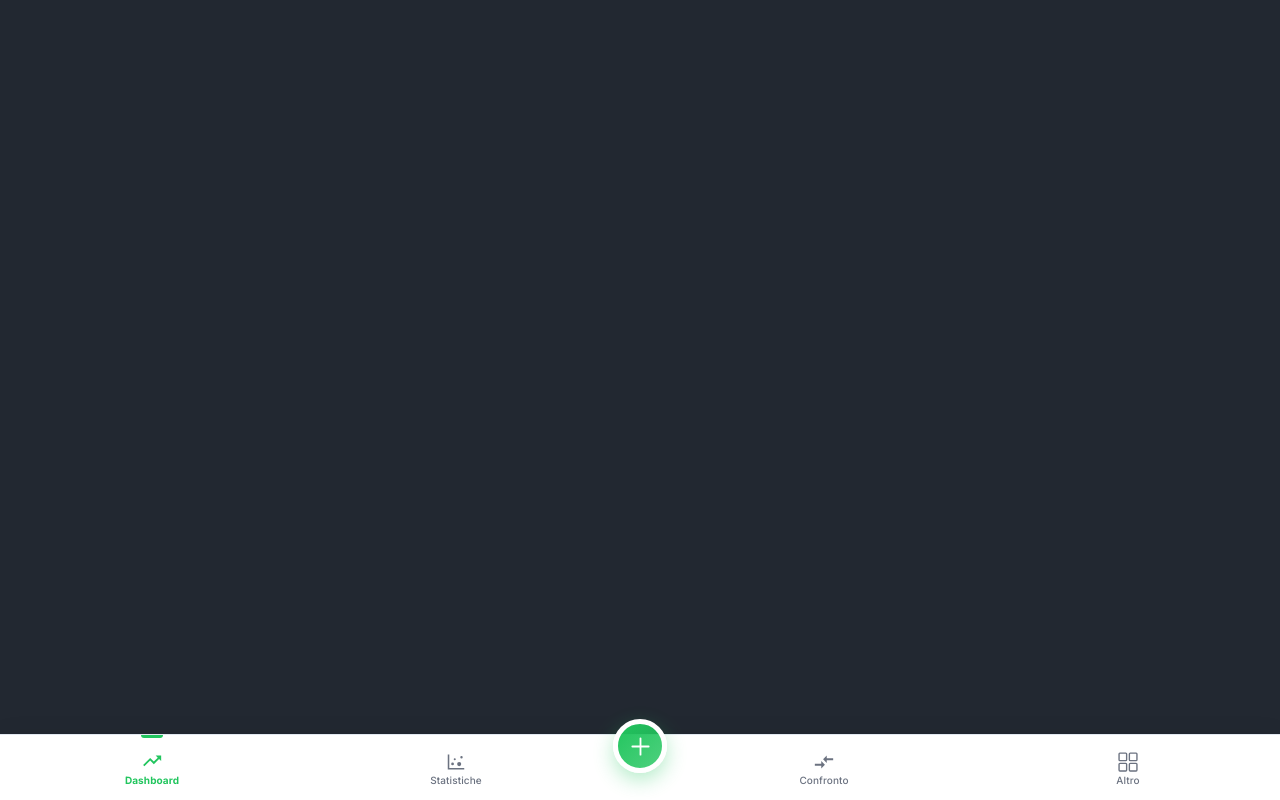
Test: BottomNavBar › opens More with secondary destinations
Click the button "Altro": (1128, 768) [976,735,1279,799]
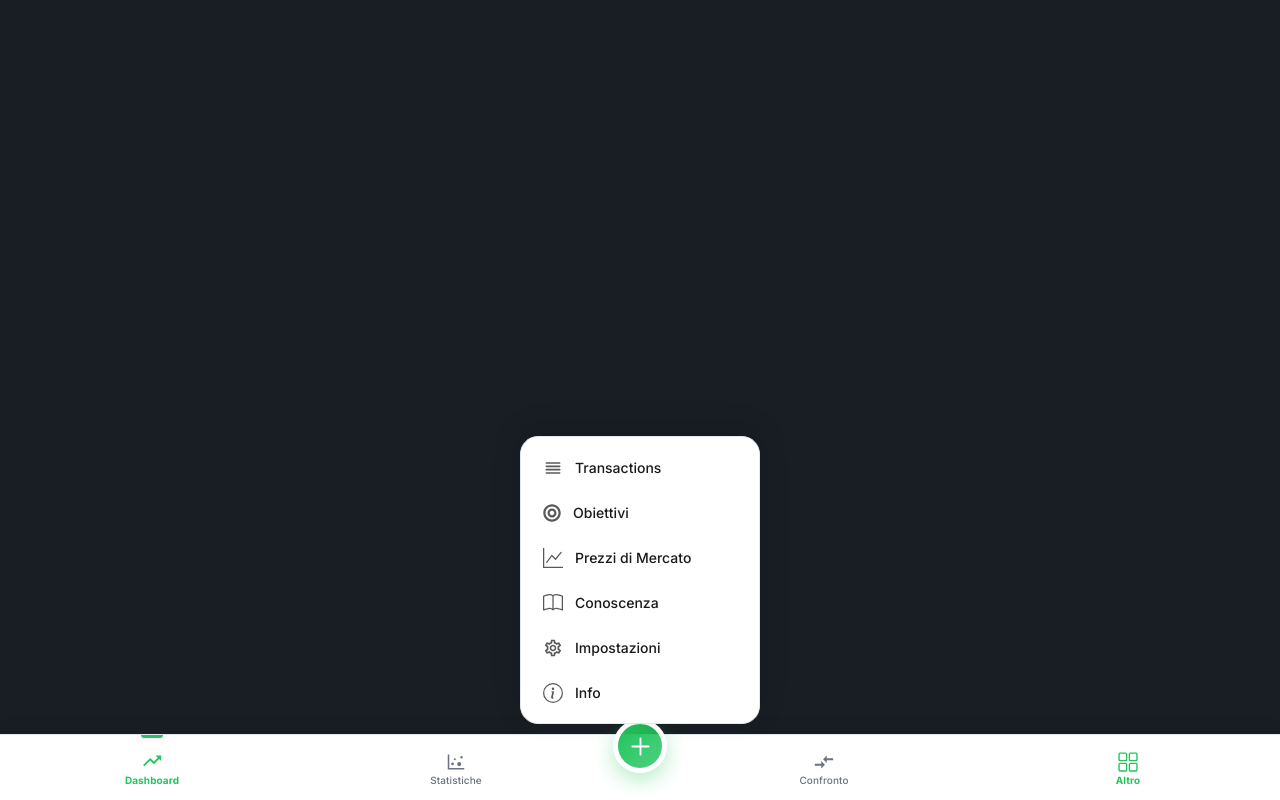
Expected: the button "Obiettivi" is shown, [529,490,751,535]
Expected: the button "Prezzi di Mercato" is shown, [529,535,751,580]
Expected: the button "Conoscenza" is shown, [529,580,751,625]
